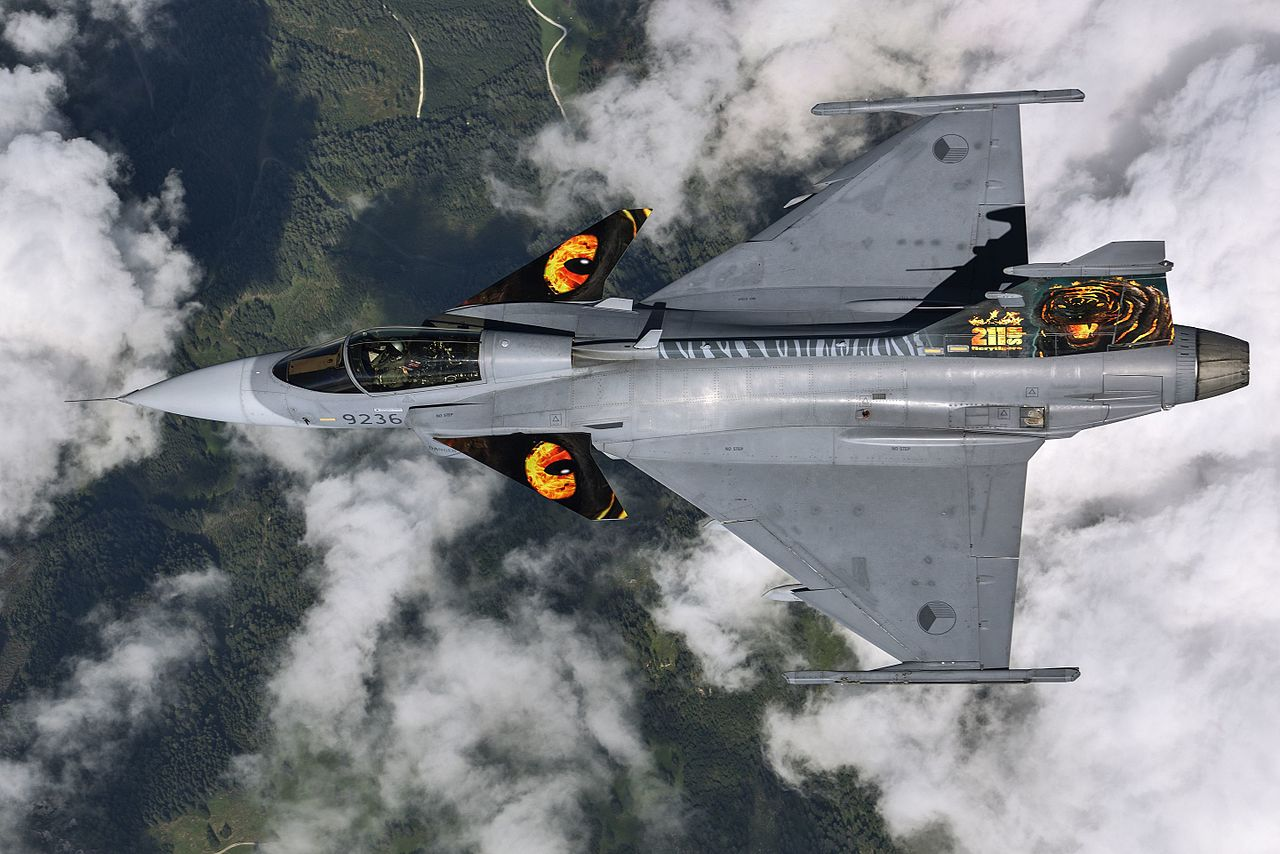JAS39: (64, 88, 1250, 684)
